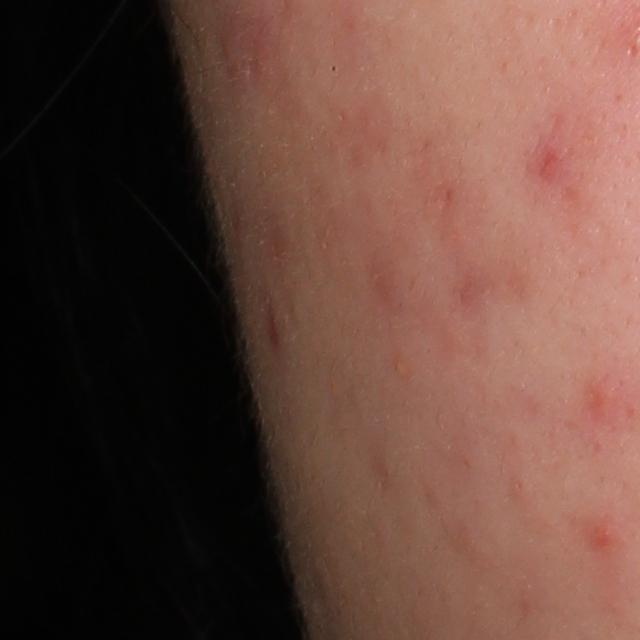papule: (579, 375, 624, 424), (588, 518, 619, 557)
